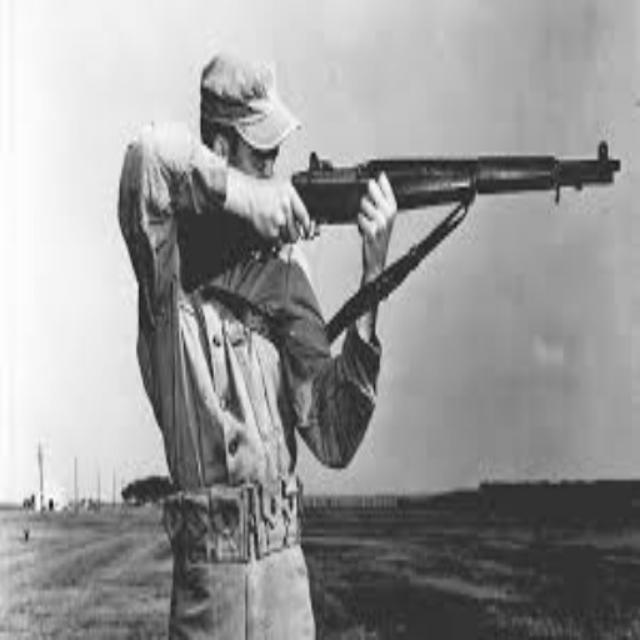other: (124, 54, 336, 636)
